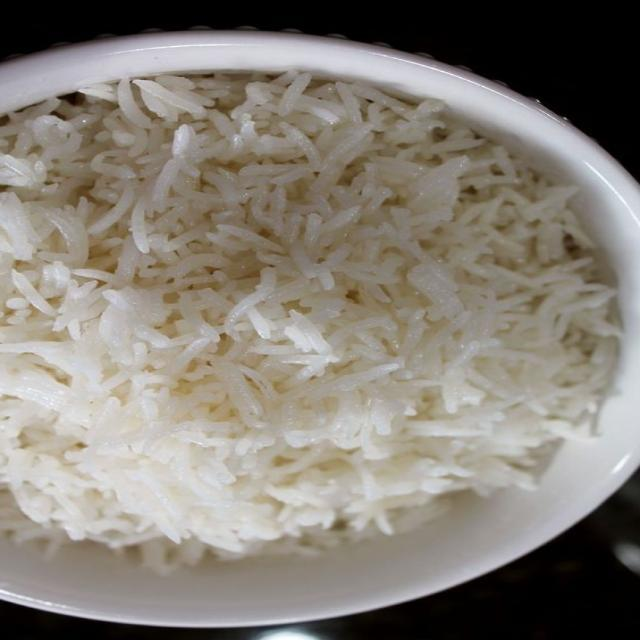nasi_putih: (0, 71, 625, 562)
